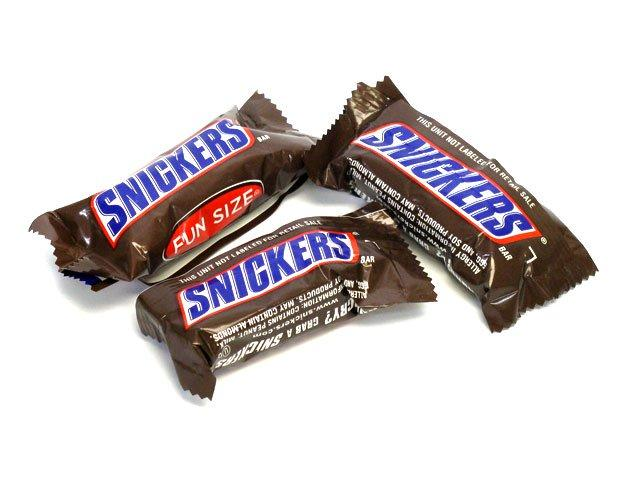snickers: (359, 124, 532, 236), (358, 126, 532, 236), (95, 115, 246, 234), (95, 117, 248, 234), (182, 227, 349, 319), (182, 227, 344, 319)
